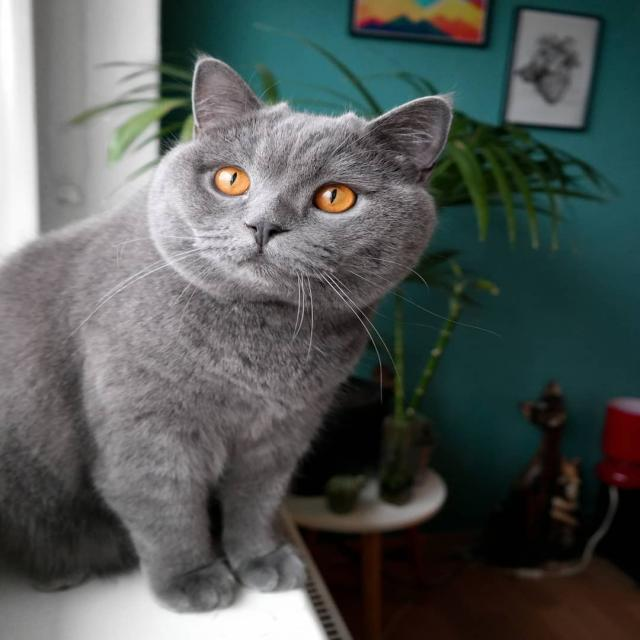british shorthair: (32, 48, 594, 586)
